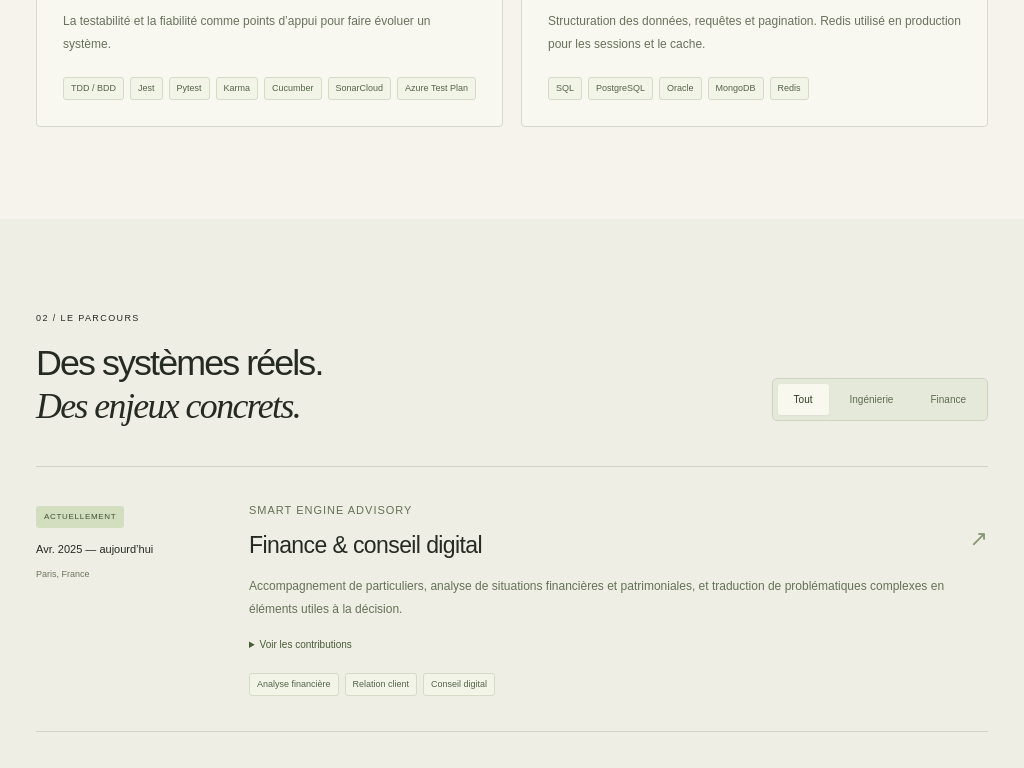
portfolio interactions › filters experience without altering the source records
The width and height of the screenshot is (1024, 768).
(page scrolled)
Step 1. Click the button "Finance" → click(948, 400), box x1=914 y1=384 x2=982 y2=415
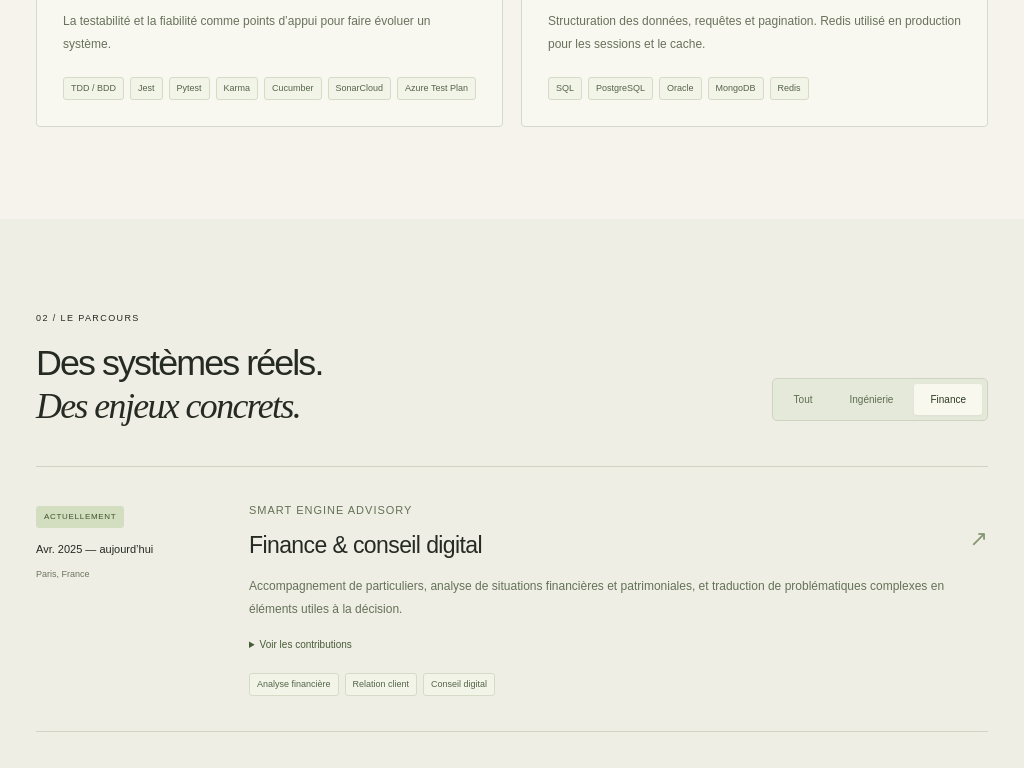
Expected: the number of elements with class "experience" is 1, x1=36 y1=467 x2=988 y2=732
Expected: the text "Smart Engine Advisory" is shown, x1=249 y1=504 x2=412 y2=516
Step 2. Click the button "Ingénierie" → click(871, 400), box x1=834 y1=384 x2=909 y2=415
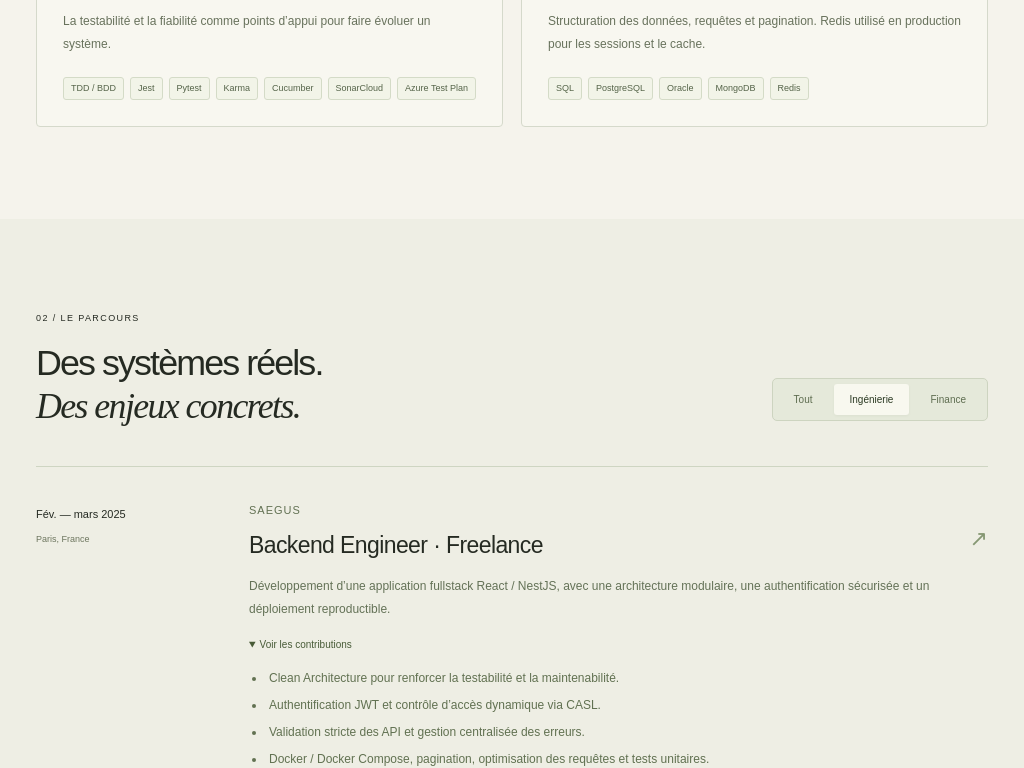
Expected: the number of elements with class "experience" is 4
Step 3. Click the button "Tout" → click(803, 400), box x1=778 y1=384 x2=828 y2=415
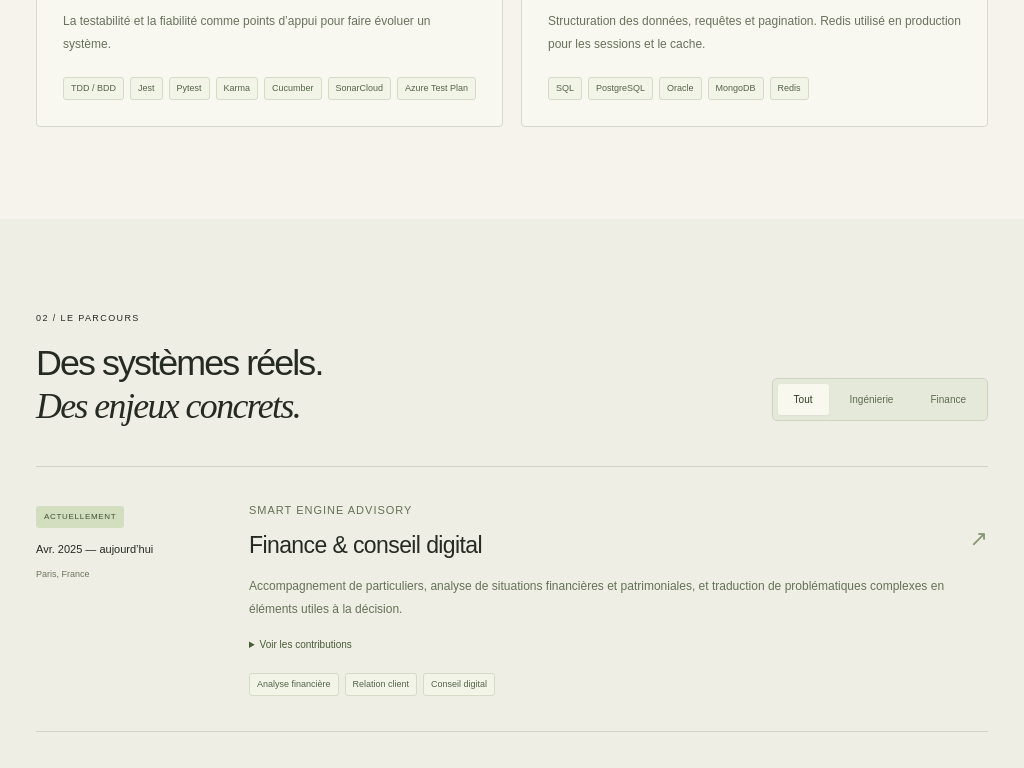
Expected: the number of elements with class "experience" is 5
